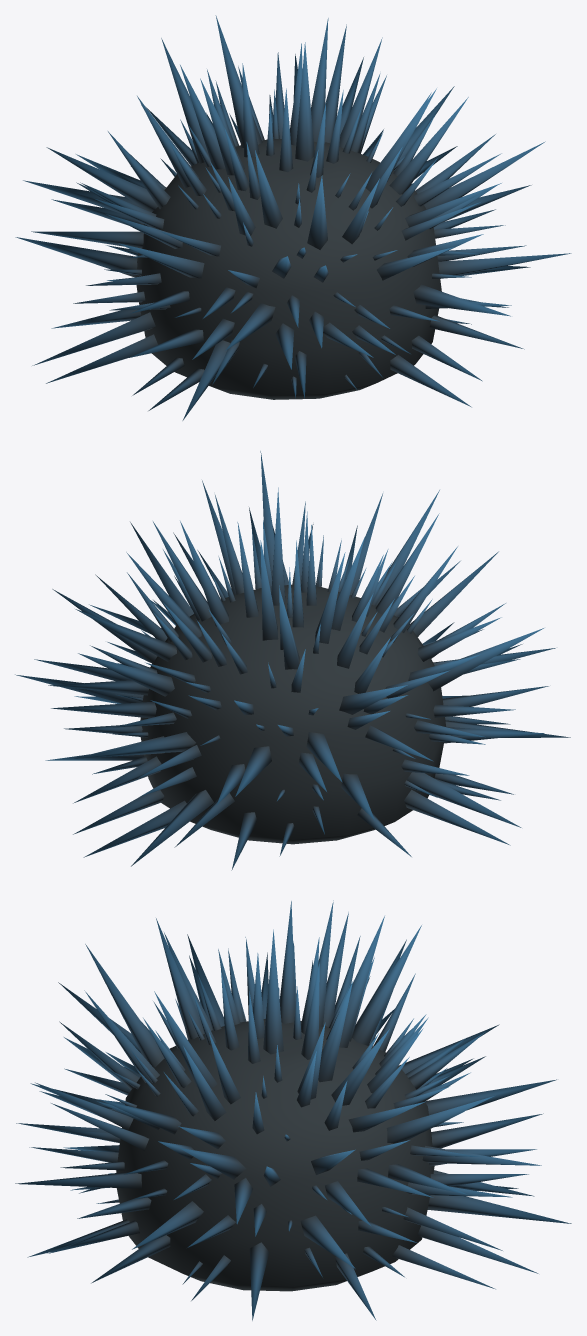
Rendered from underwater-sea-invertebrates-sea-urchin_v2.glb.
The picture shows the model from 3 angles, top to bottom: view 1: azimuth 30°, elevation 25°; view 2: azimuth 150°, elevation 25°; view 3: azimuth 270°, elevation 25°; orthographic projection. The views are drawn at different scales.
Parts seen in each view (by area): view 1: Sea Urchin_v2; view 2: Sea Urchin_v2; view 3: Sea Urchin_v2.
Part boxes in pixels (left/top/right/bottom): Sea Urchin_v2: left=15, top=15, right=571, bottom=420; Sea Urchin_v2: left=15, top=451, right=570, bottom=870; Sea Urchin_v2: left=15, top=900, right=571, bottom=1320.
Bounding box in the file's own units: 0.1 × 0.0601 × 0.0952.
